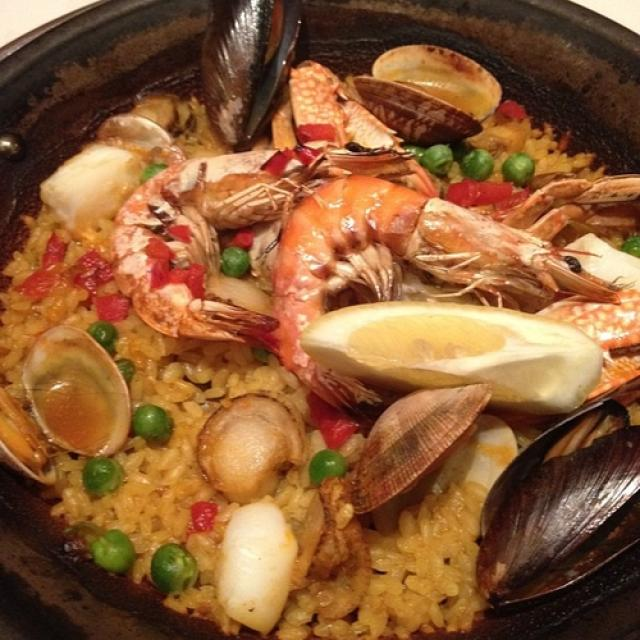蔬菜料理: (66, 61, 640, 592)
